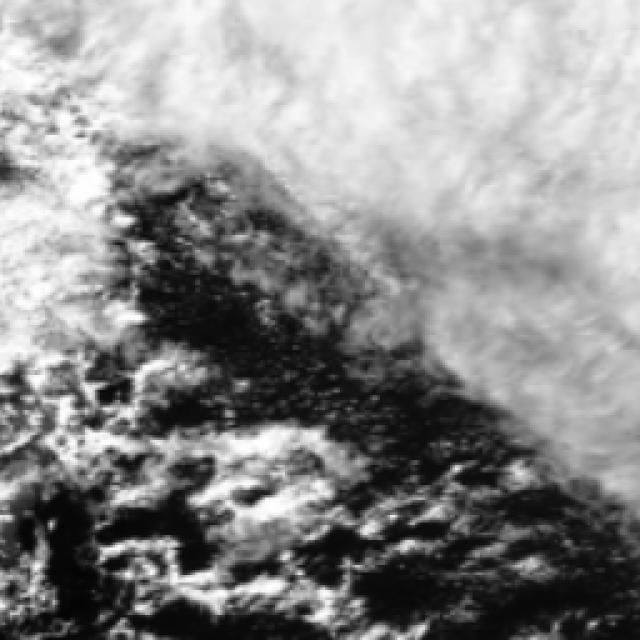CB: (262, 0, 639, 153)
